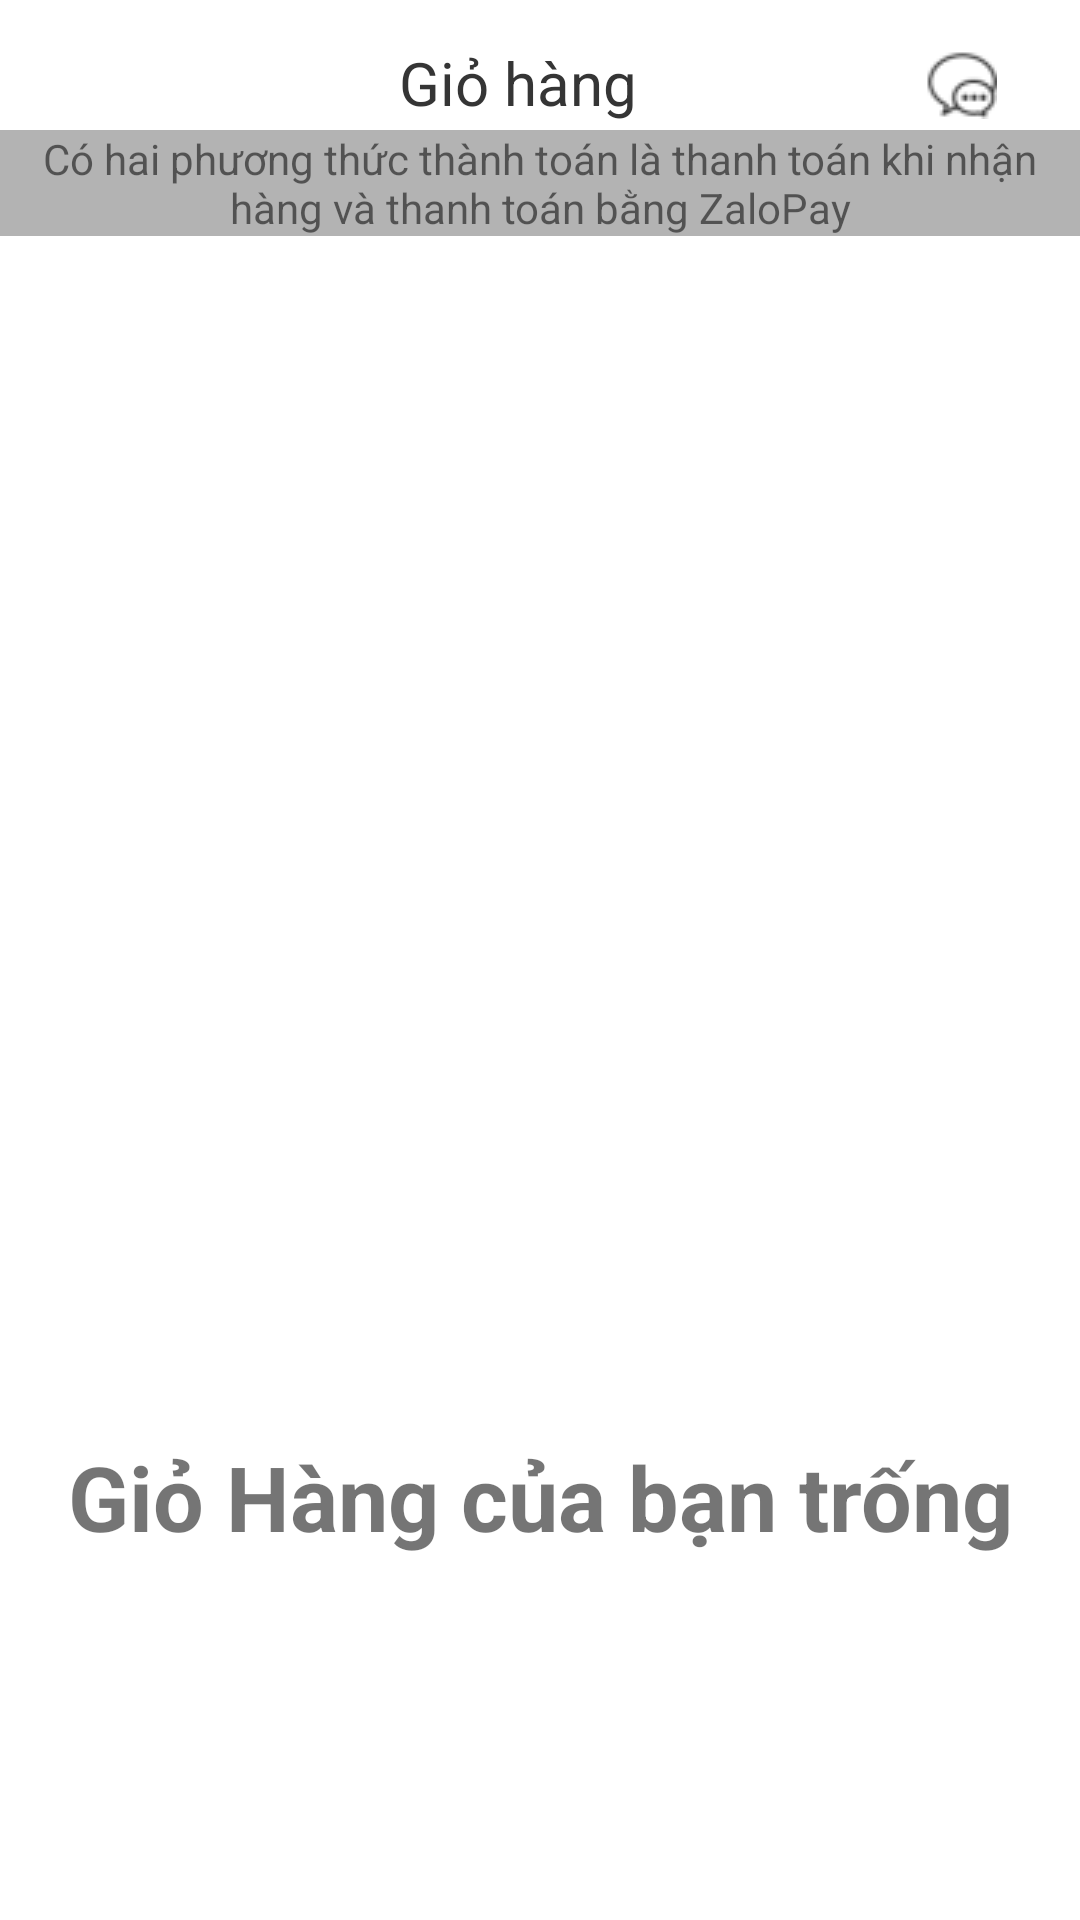

Icon click points for this 1080 × 1920 phone screenshot, format point (x, y):
mess: point (962, 85)
